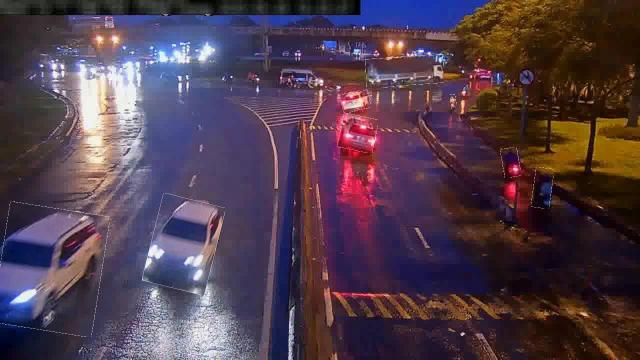Bike: (532, 168, 552, 209), (502, 147, 520, 177), (451, 94, 457, 109)
Car: (0, 206, 106, 334), (147, 196, 221, 292), (339, 115, 377, 152), (342, 90, 371, 112)
Truck: (366, 56, 444, 86)
